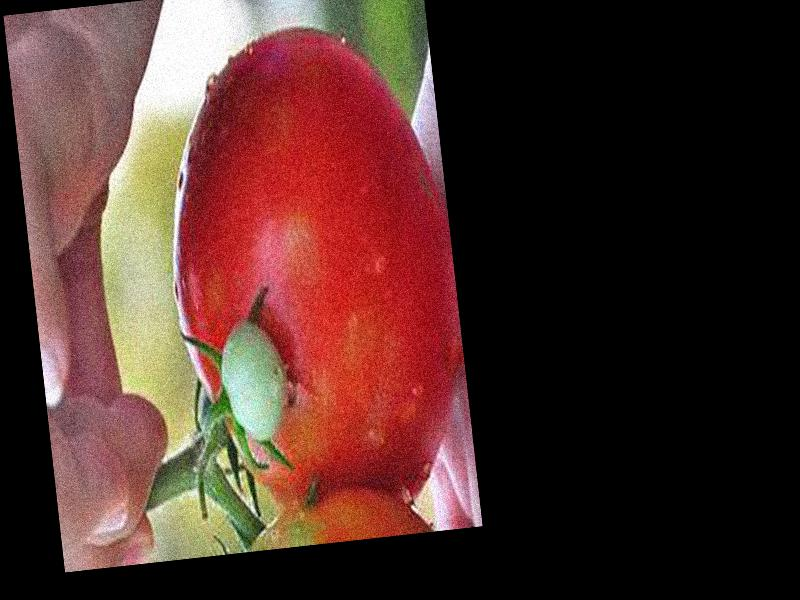Tomato: (147, 15, 479, 523)
